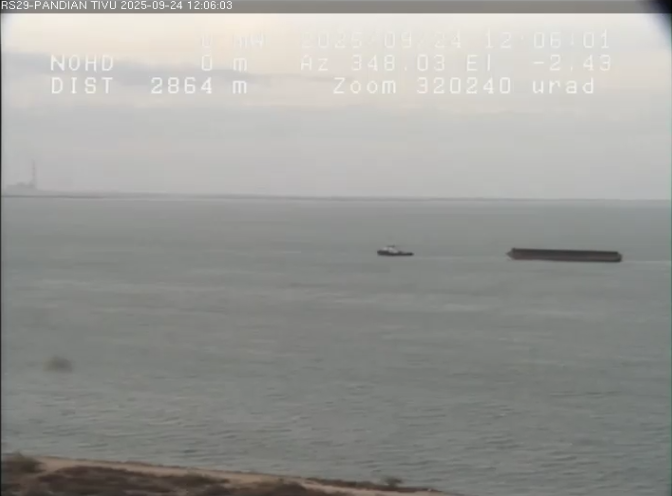BARGE: (482, 236, 629, 281)
OFFSHORE_SUPPLY_VESSEL: (372, 235, 432, 273)
TOWING: (330, 196, 656, 310)
